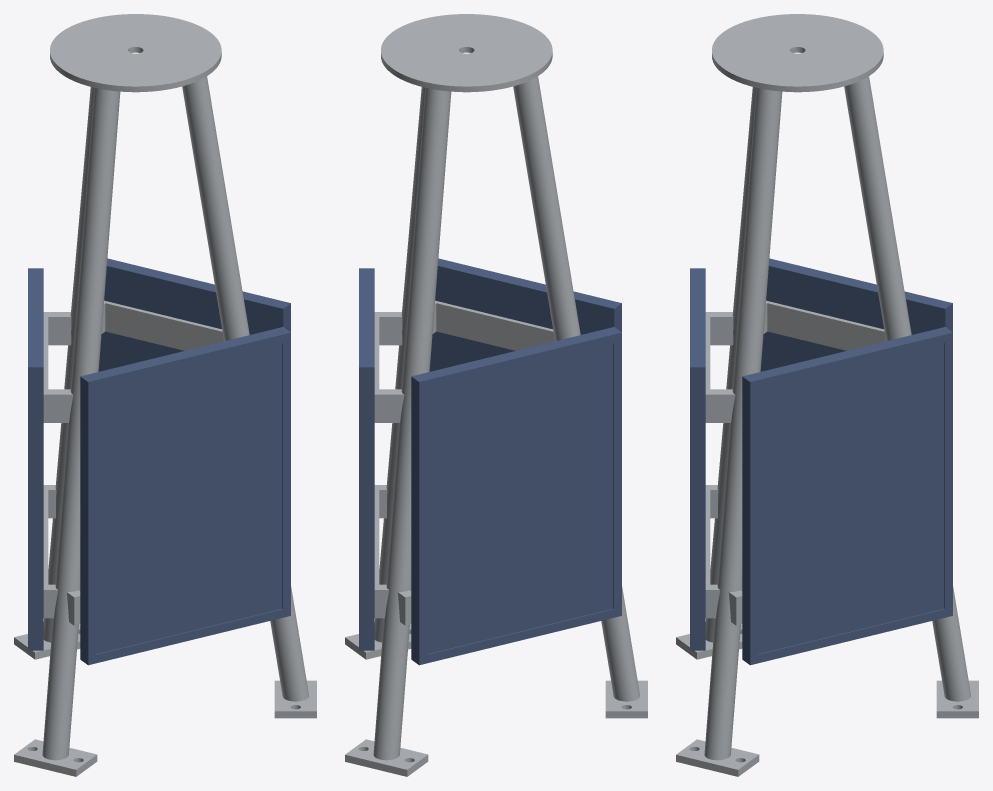
File: step_04.glb
3 views of the same model, side by side, from view 1: azimuth 30°, elevation 25°; view 2: azimuth 150°, elevation 25°; view 3: azimuth 270°, elevation 25° (orthographic).
Parts seen in each view (by area): view 1: part__solar panel 1, part__tripod leg 2, part__mast top plate, part__tripod leg 3, part__solar panel 2, part__solar panel 3, part__tripod leg 1, part__upper panel bracket 2, part__upper panel bracket 3, part__lower panel bracket 3; view 2: part__solar panel 3, part__tripod leg 1, part__mast top plate, part__tripod leg 2, part__solar panel 1, part__solar panel 2, part__tripod leg 3, part__upper panel bracket 1, part__upper panel bracket 2, part__lower panel bracket 2; view 3: part__solar panel 2, part__tripod leg 3, part__mast top plate, part__tripod leg 1, part__solar panel 3, part__solar panel 1, part__tripod leg 2, part__upper panel bracket 3, part__upper panel bracket 1, part__lower panel bracket 1.
Part boxes in pixels (x1,y1,x2,y2): part__solar panel 1: [80, 327, 290, 665]; part__tripod leg 2: [14, 88, 120, 776]; part__mast top plate: [50, 14, 221, 92]; part__tripod leg 3: [182, 76, 316, 718]; part__solar panel 2: [98, 258, 290, 371]; part__solar panel 3: [28, 268, 43, 650]; part__tripod leg 1: [14, 87, 94, 659]; part__upper panel bracket 2: [101, 300, 223, 350]; part__upper panel bracket 3: [43, 312, 73, 422]; part__lower panel bracket 3: [43, 485, 58, 618]; part__solar panel 3: [411, 327, 621, 665]; part__tripod leg 1: [345, 88, 451, 776]; part__mast top plate: [381, 14, 552, 92]; part__tripod leg 2: [513, 76, 647, 718]; part__solar panel 1: [429, 258, 621, 371]; part__solar panel 2: [359, 268, 374, 650]; part__tripod leg 3: [345, 87, 425, 659]; part__upper panel bracket 1: [432, 300, 554, 350]; part__upper panel bracket 2: [374, 312, 404, 422]; part__lower panel bracket 2: [374, 485, 389, 618]; part__solar panel 2: [742, 327, 952, 665]; part__tripod leg 3: [676, 88, 782, 776]; part__mast top plate: [712, 14, 883, 92]; part__tripod leg 1: [844, 76, 978, 718]; part__solar panel 3: [760, 258, 952, 371]; part__solar panel 1: [690, 268, 705, 650]; part__tripod leg 2: [676, 87, 756, 659]; part__upper panel bracket 3: [763, 300, 885, 350]; part__upper panel bracket 1: [705, 312, 735, 422]; part__lower panel bracket 1: [705, 485, 720, 618].
Bounding box in the file's own units: 448 × 922 × 388.
